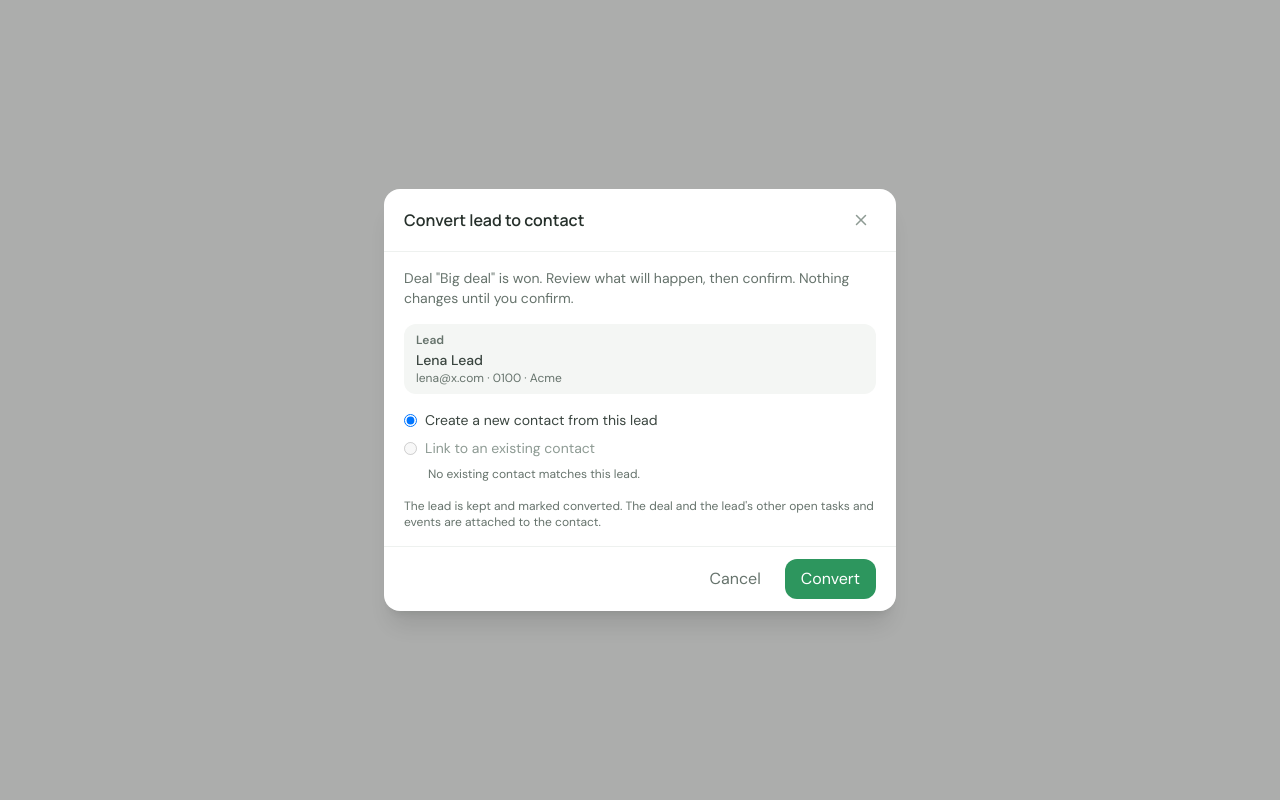
Test case: ConvertLeadModal › a failed conversion keeps the dialog open, shows the server message and re-reads the preview
This screenshot has width=1280, height=800.
Click the button "Convert". click: (830,579)
box: [785,559,876,599]
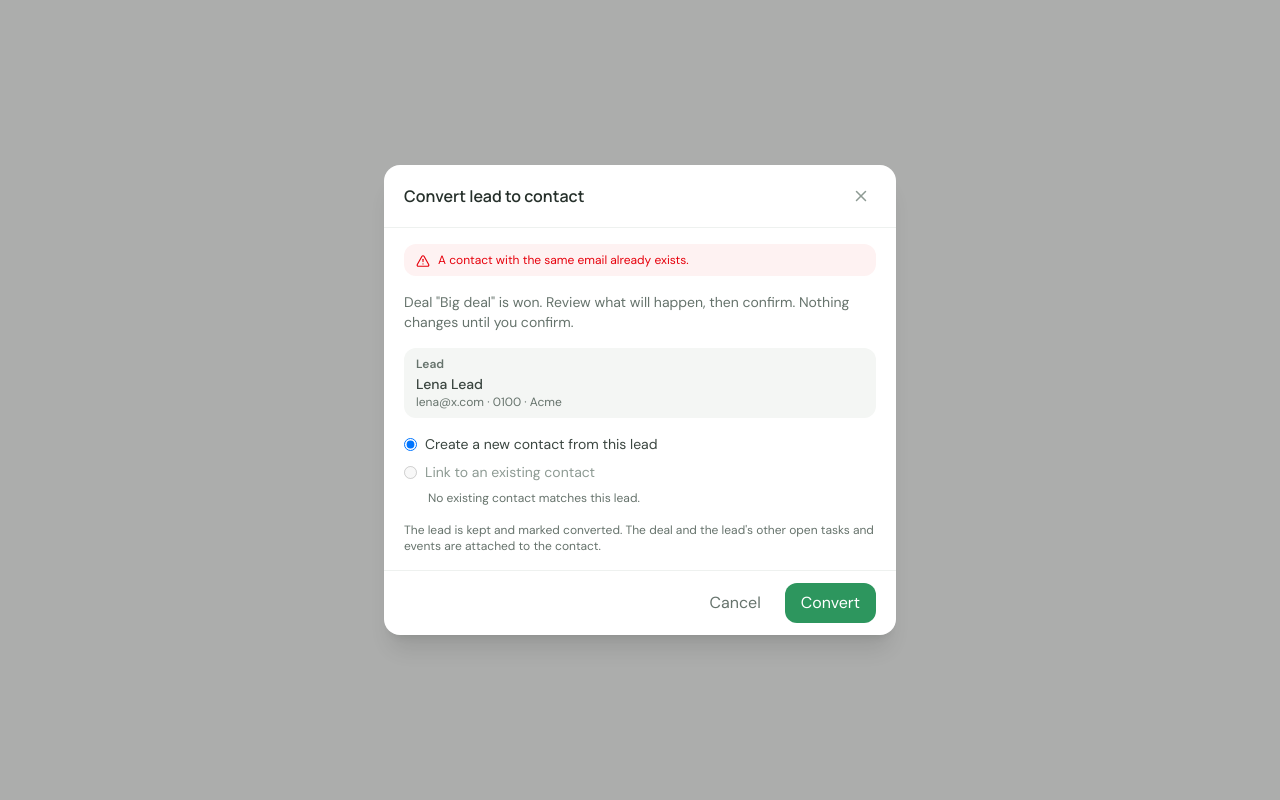
Expected: the message "A contact with the same email already exists." is shown, [404,244,876,276]
Expected: the message reads "A contact with the same email already exists.", [438,252,689,268]
